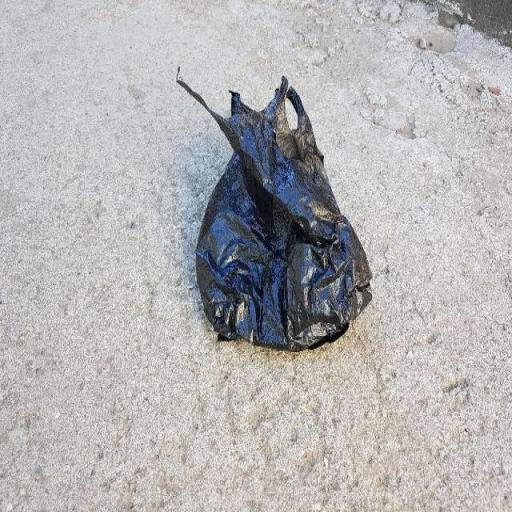plastic-bag: (174, 66, 376, 356)
